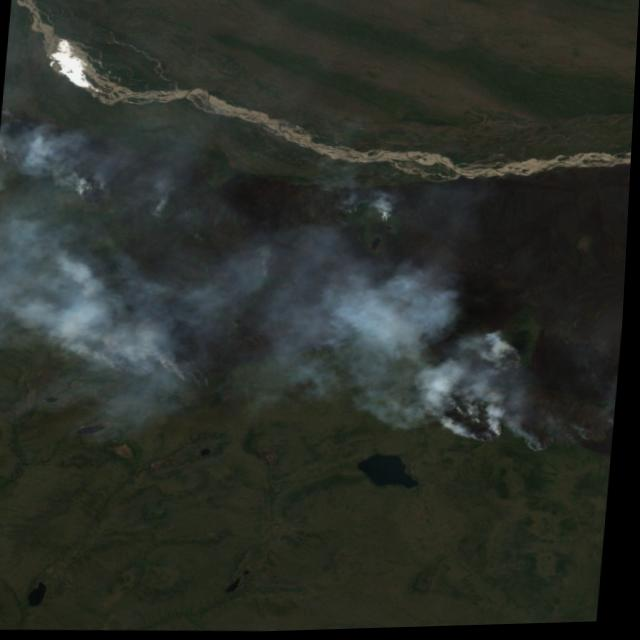fire: (419, 331, 613, 471), (91, 316, 238, 397), (0, 87, 79, 177), (71, 249, 143, 313), (70, 173, 123, 217)
